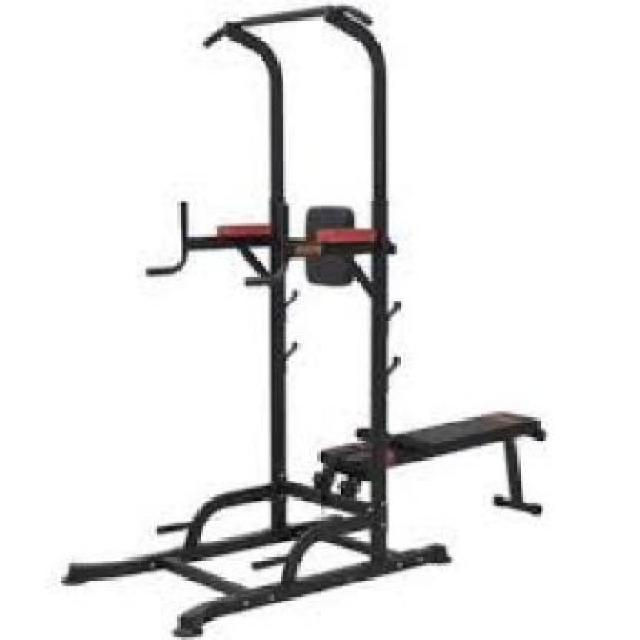chinning dipping: (60, 5, 405, 637)
